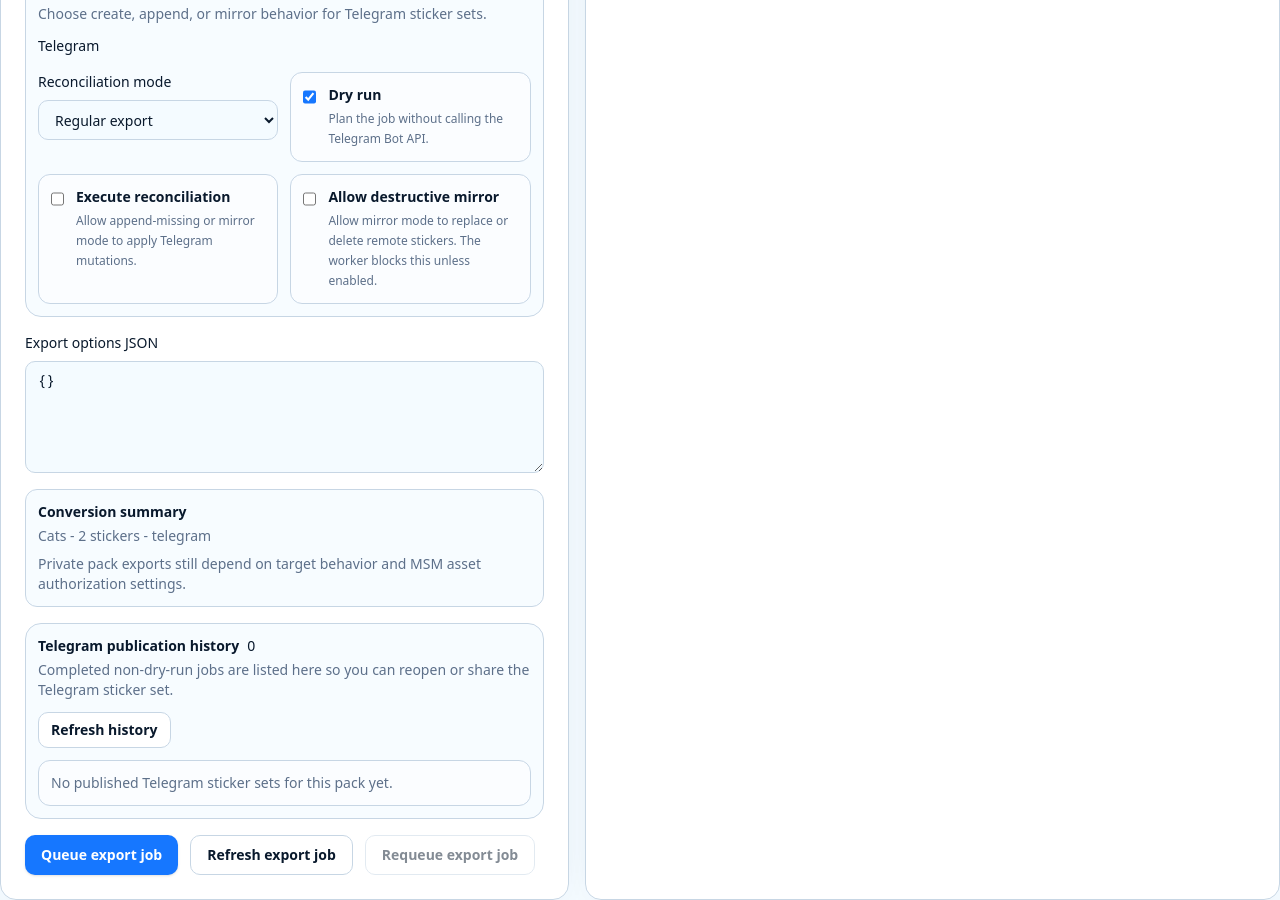
it: export UI › renders Telegram publication links from completed export jobs
The image size is (1280, 900).
(page scrolled)
Step 1. Click the button with aria-label "Queue export job" → (102, 855), box [25, 835, 178, 875]
(page scrolled)
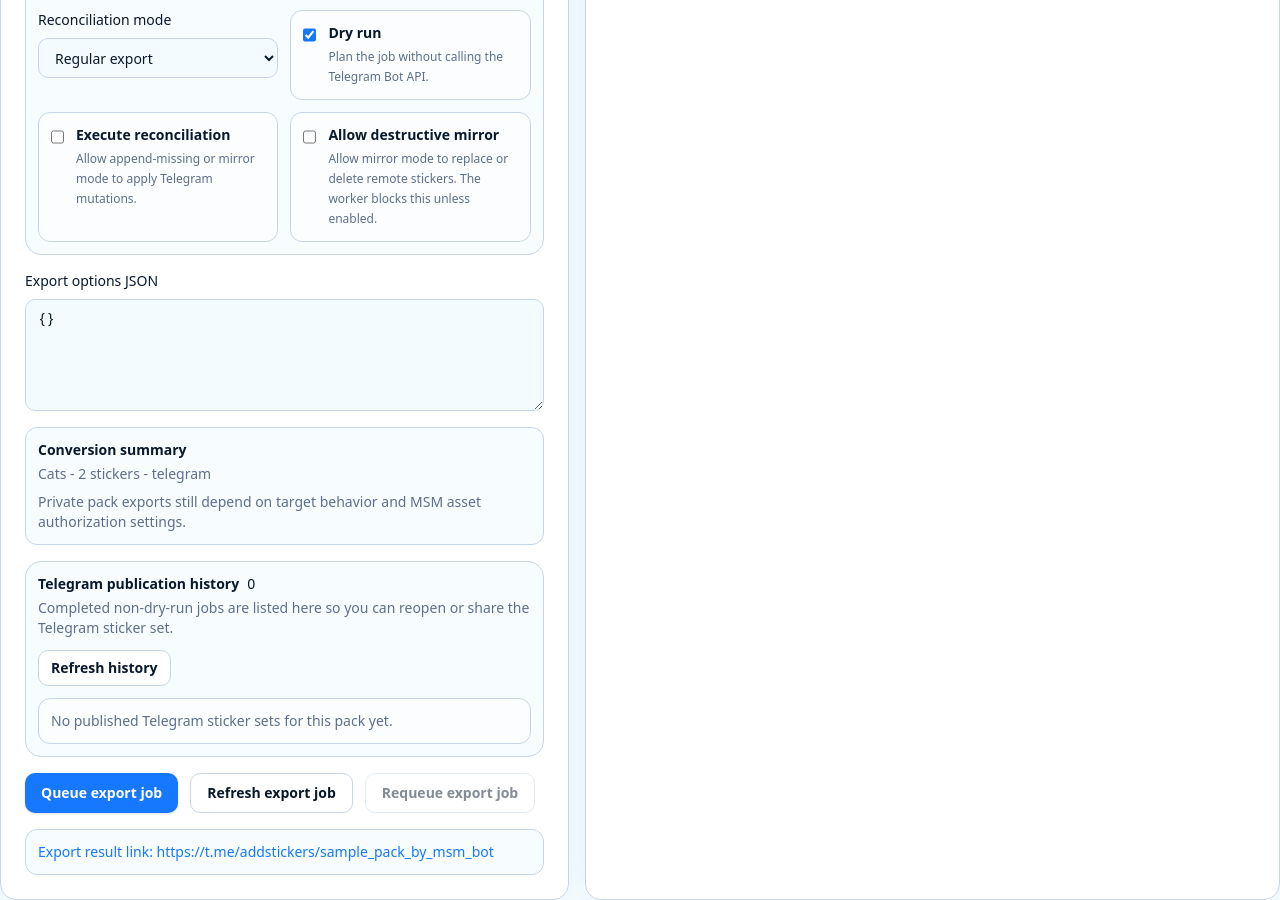
Result: the link to "https://t.me/addstickers/sample_pack_by_msm_bot" is shown at [25, 829, 544, 875]
